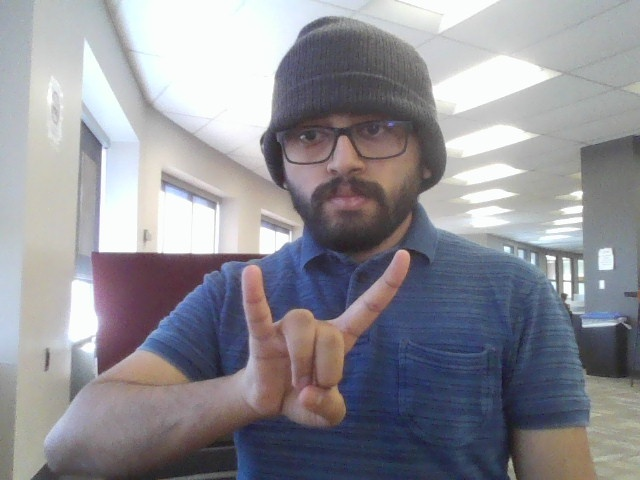help: (233, 245, 434, 452)
